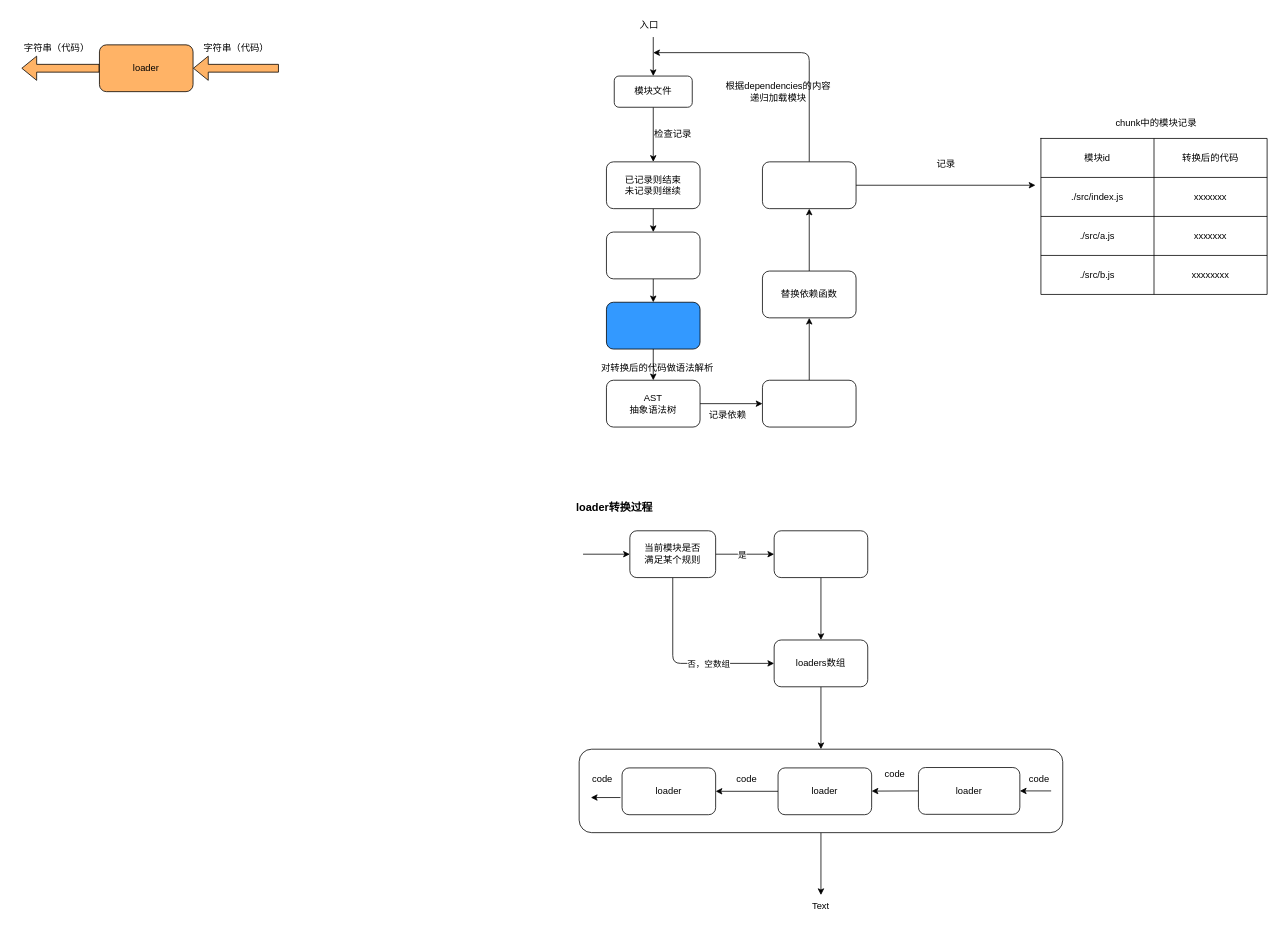
Some shapes in this 1281 by 931 pixel diagram are drawn without their labels. The box of each missing label's shape, as (x1, y1, x2, y2) in pixels:
保存到 dependencies中: (762, 379, 856, 427)
保存转换后的 模块代码: (762, 161, 856, 209)
处理loader: (606, 301, 700, 349)
读取文件内容: (606, 231, 700, 279)
读取规则中对应的loaders: (773, 530, 868, 578)
